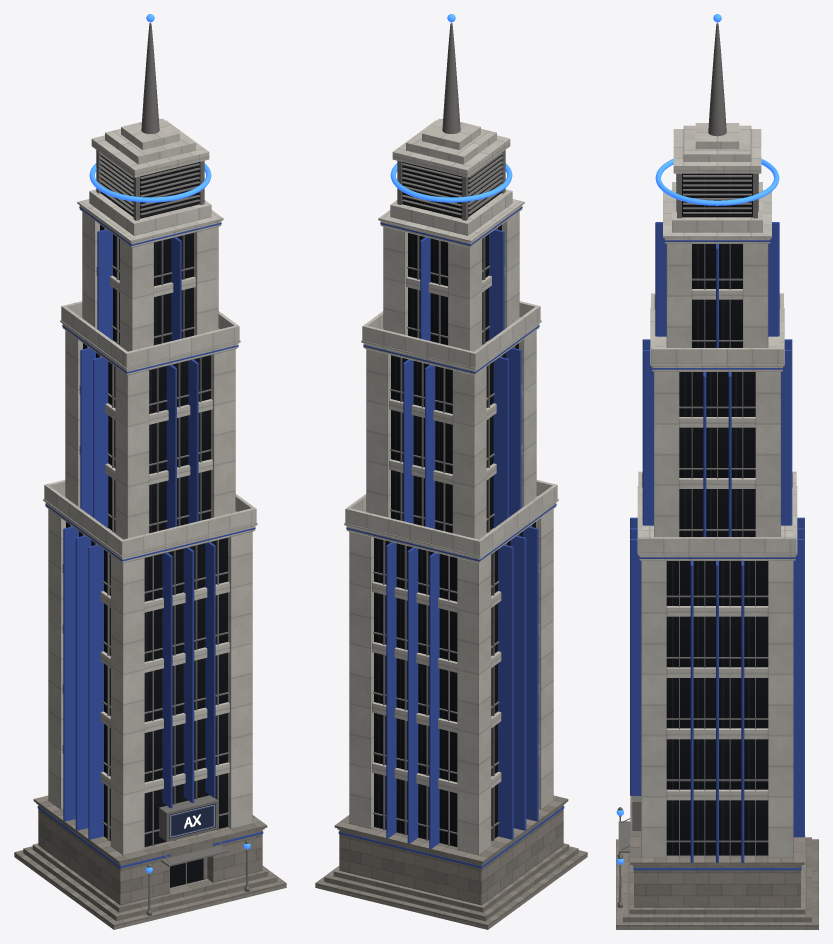
The model's file is s14-askdoc-x.glb.
The picture shows the model from 3 angles, left to right: view 1: azimuth 30°, elevation 25°; view 2: azimuth 150°, elevation 25°; view 3: azimuth 270°, elevation 25°; orthographic projection.
Parts seen in each view (by area): view 1: Landmark · AskDoc.X (Series 14); view 2: Landmark · AskDoc.X (Series 14); view 3: Landmark · AskDoc.X (Series 14).
Boxes of the visible parts, x1,y1,x2,y2 form: Landmark · AskDoc.X (Series 14): (14,14,286,929); Landmark · AskDoc.X (Series 14): (315,14,587,929); Landmark · AskDoc.X (Series 14): (616,14,818,929).
Bounding box in the file's own units: 12 × 57 × 12.
Materials: 7 (4 with a texture image).
